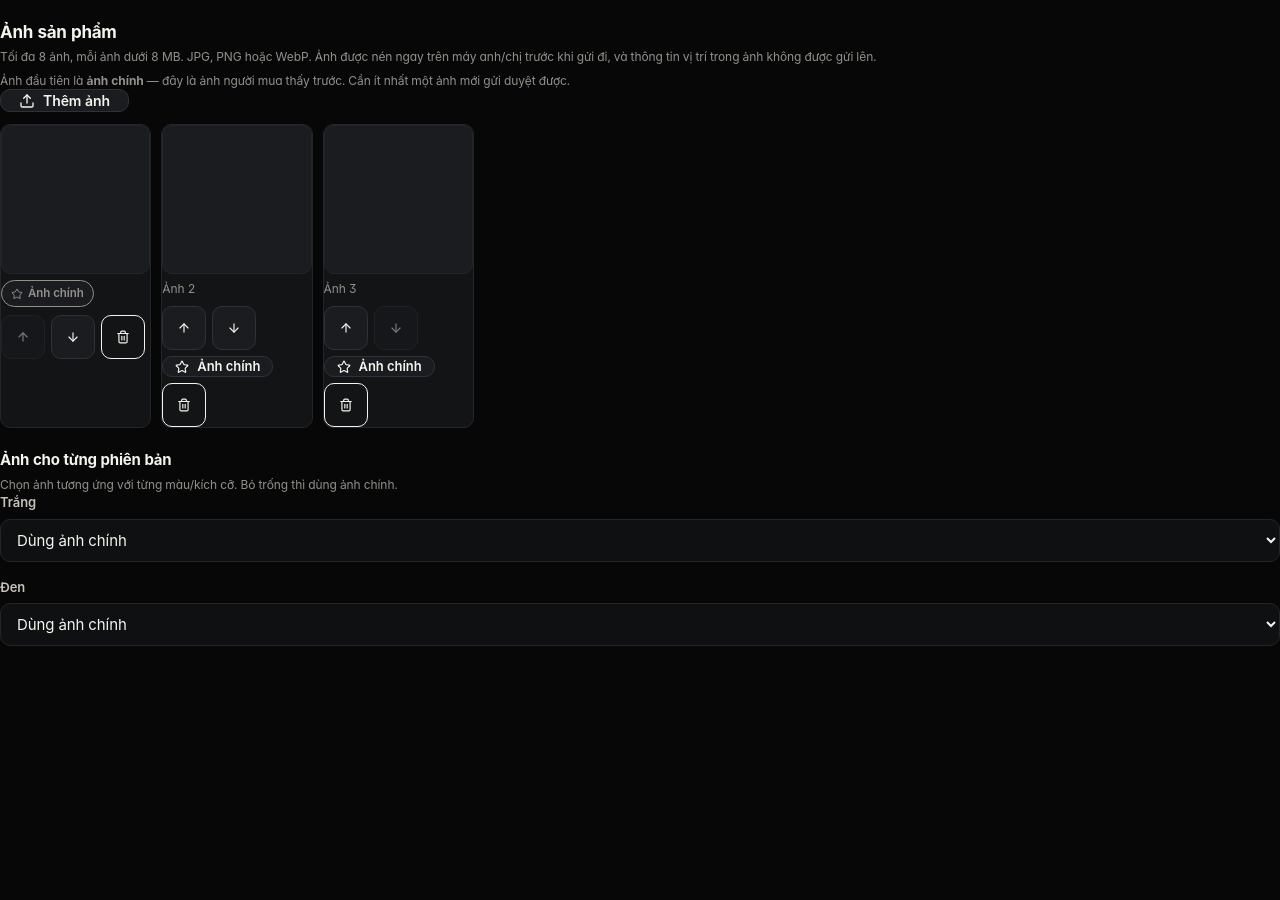
Test: reordering photos › shows a refusal instead of a silently unchanged order
Click the button named "Chuyển ảnh 2 lên trước". click: (184, 328)
box: [162,306,206,350]
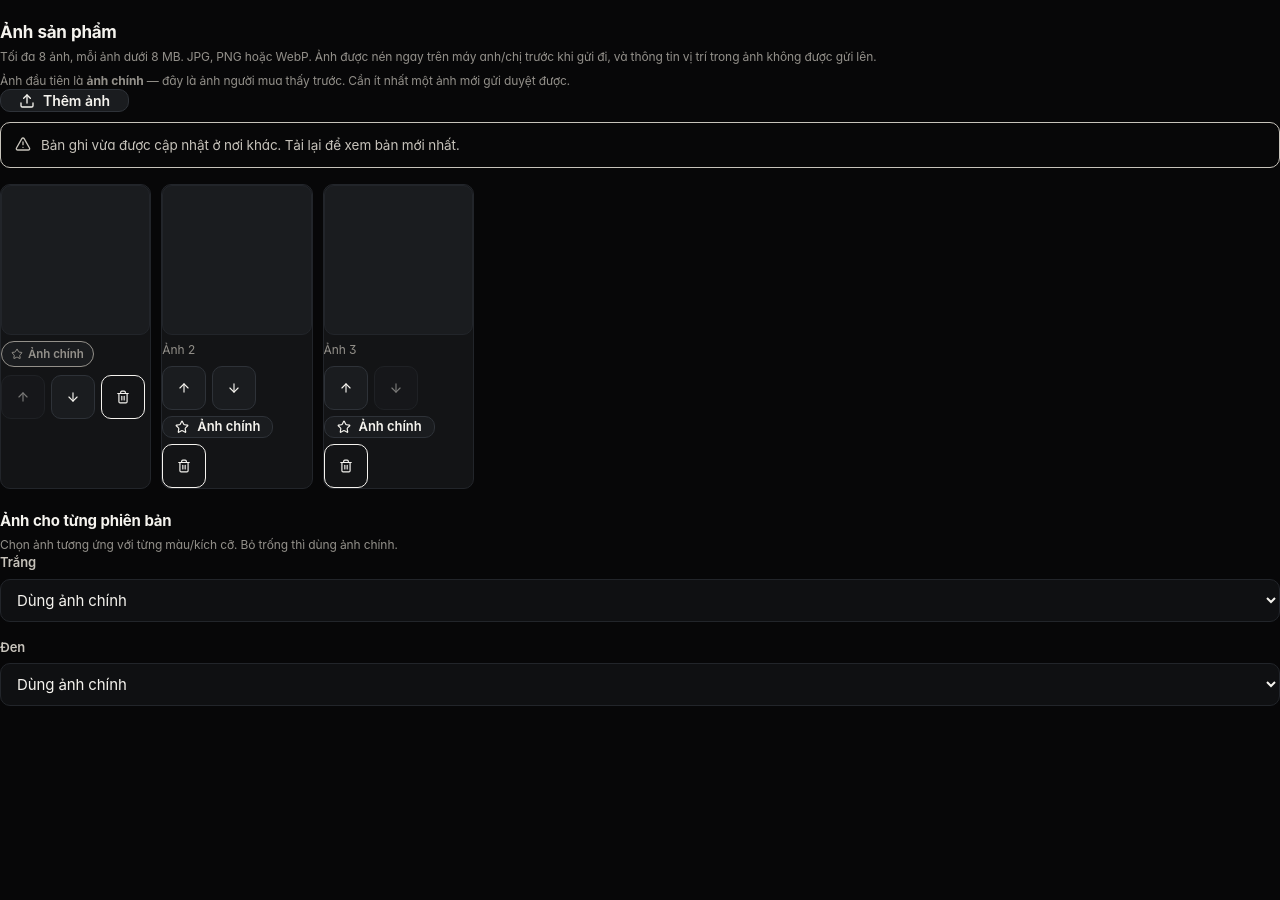
Now the message shows "Bản ghi vừa được cập nhật ở nơi khác", box [41,137,460,153]
